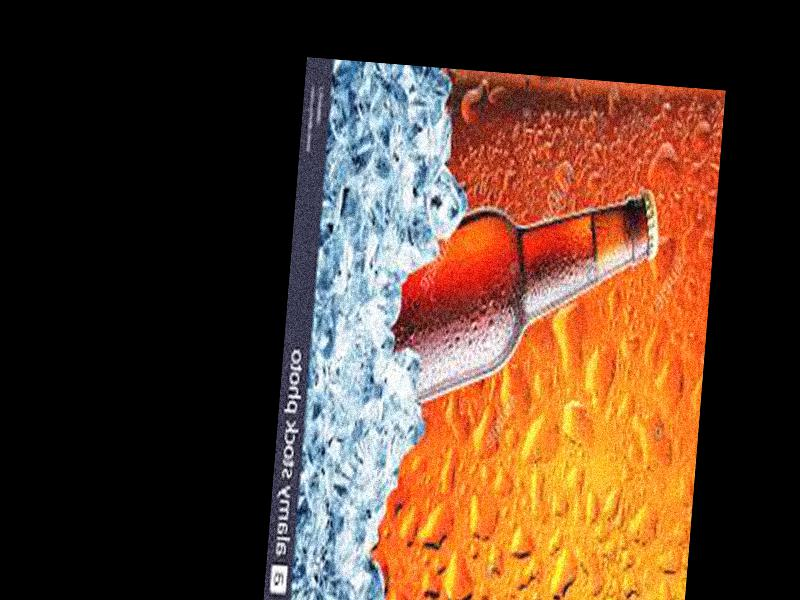Beer: (384, 158, 663, 417)
